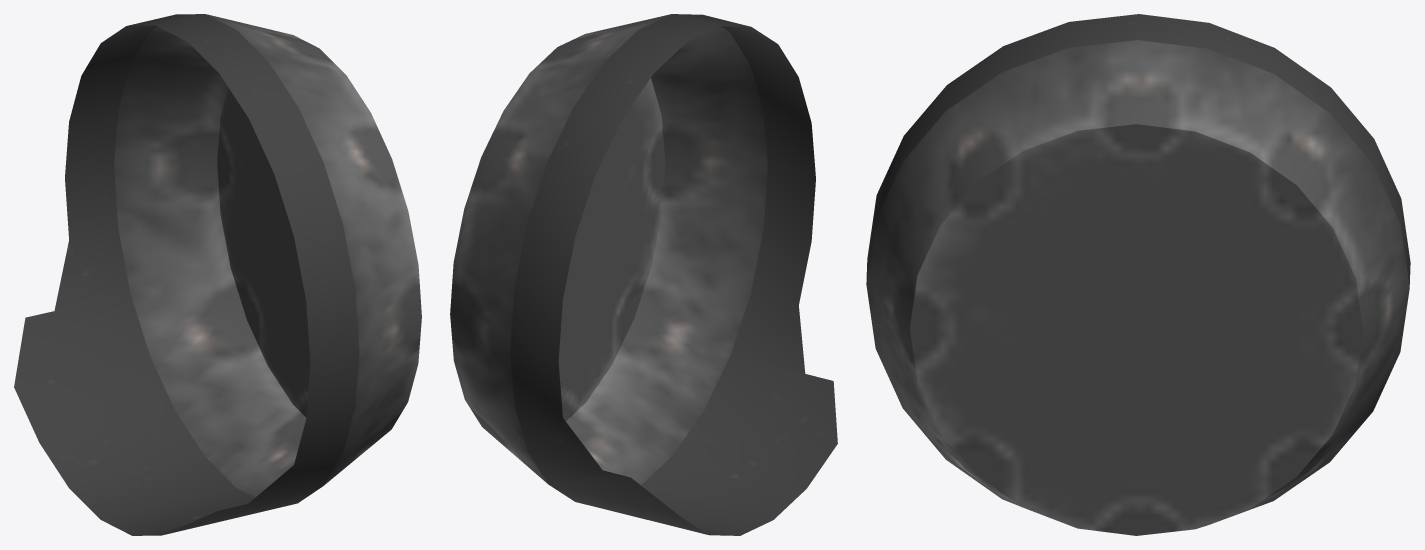
The model's file is WallWindow_Cap_A.gltf.
3 renders of one model, left to right at view 1: azimuth 30°, elevation 25°; view 2: azimuth 150°, elevation 25°; view 3: azimuth 270°, elevation 25°, orthographic. The views are drawn at different scales.
Visible parts, largest first — view 1: WallWindow_Cap_A; view 2: WallWindow_Cap_A; view 3: WallWindow_Cap_A.
Boxes of the visible parts, bbox=[...] form: WallWindow_Cap_A: bbox=[14, 14, 421, 535]; WallWindow_Cap_A: bbox=[450, 14, 837, 535]; WallWindow_Cap_A: bbox=[866, 14, 1410, 535].
Size of the model in its own units: 0.2008 by 0.3958 by 0.3954.
2 materials, 2 textured.
